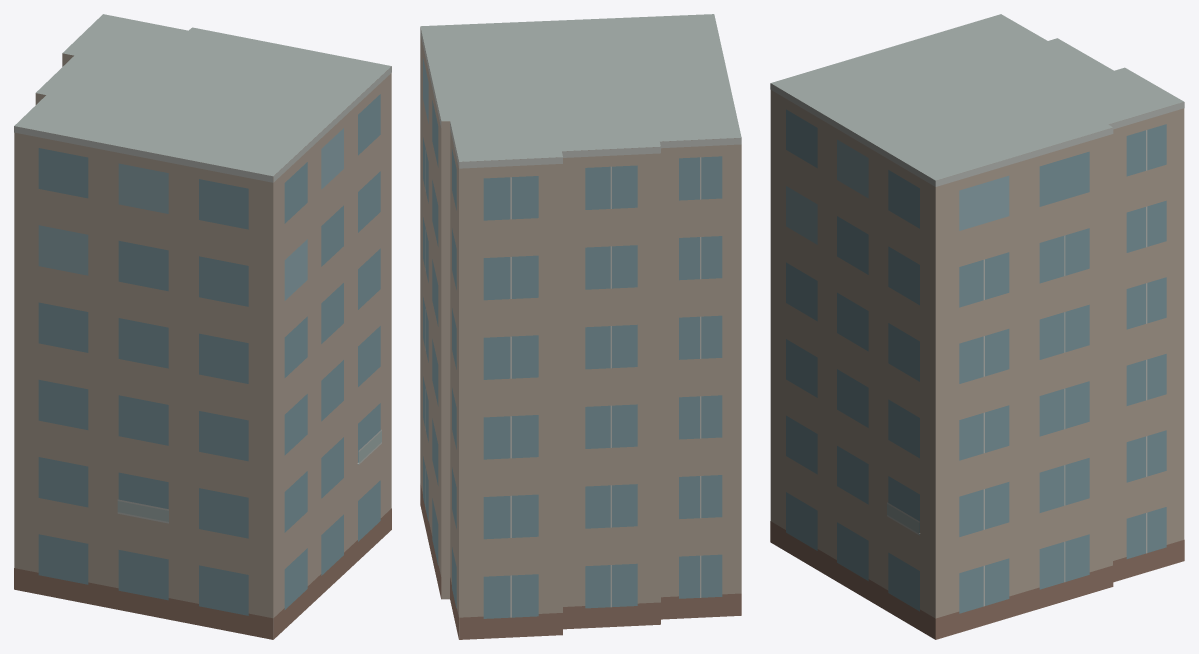
File: survey-upis-33014224.glb
The picture shows the model from 3 angles, left to right: view 1: azimuth 30°, elevation 25°; view 2: azimuth 150°, elevation 25°; view 3: azimuth 270°, elevation 25°; orthographic projection. The views are drawn at different scales.
Visible parts, largest first — view 1: survey-upis-33014224.tmp; view 2: survey-upis-33014224.tmp; view 3: survey-upis-33014224.tmp.
Part boxes in pixels (bbox=[...]): survey-upis-33014224.tmp: bbox=[14, 14, 391, 639]; survey-upis-33014224.tmp: bbox=[420, 14, 741, 639]; survey-upis-33014224.tmp: bbox=[770, 14, 1184, 639].
Size of the model in its own units: 13.55 by 17.4 by 14.22.
